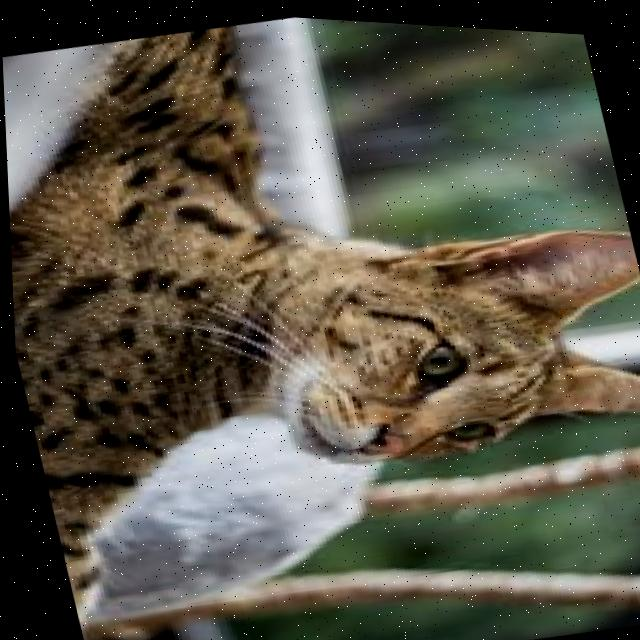Savannah: (0, 0, 640, 574)
